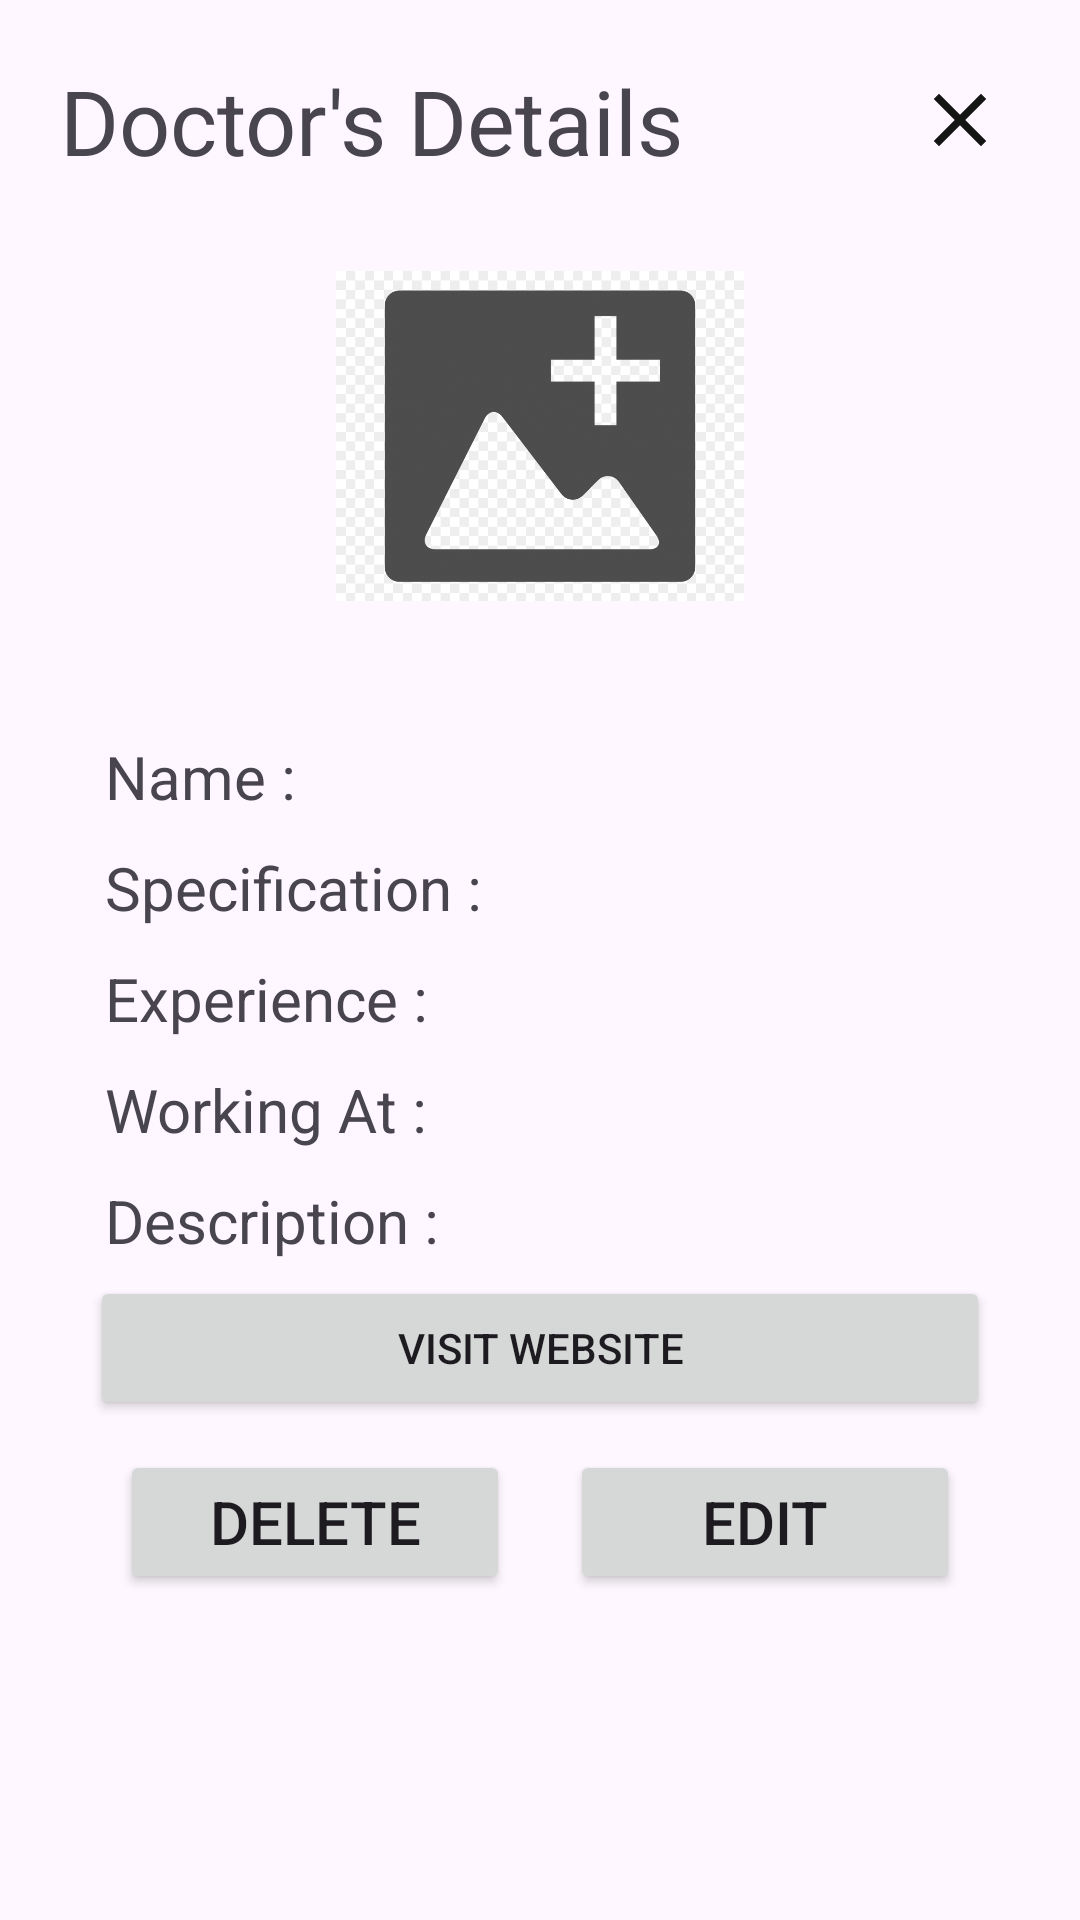

Point at icon controls on the screen. Image size 1080×1920, points as point (x, y).
close: point (960, 120)
